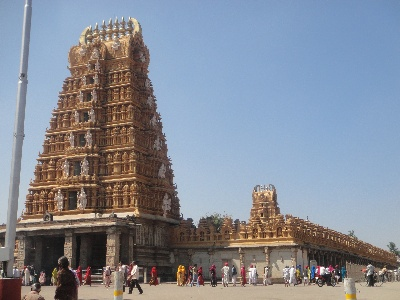gopura: (43, 44, 191, 208)
